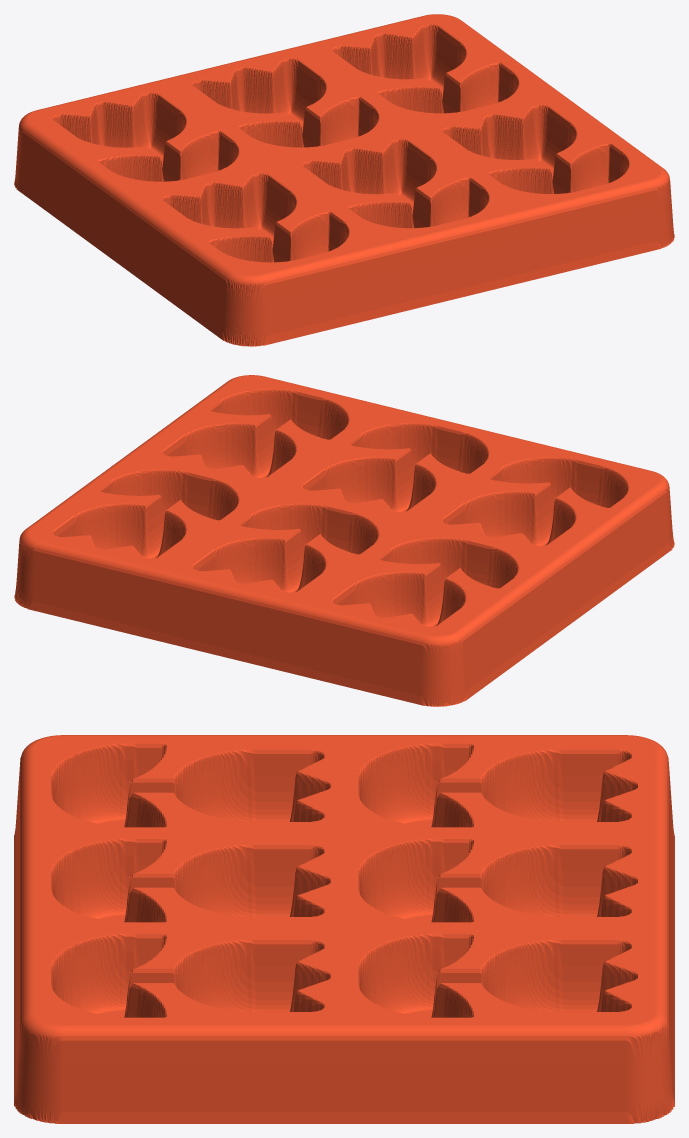
Rendered from mold.glb.
3 views of the same model, one above another, from view 1: azimuth 30°, elevation 25°; view 2: azimuth 150°, elevation 25°; view 3: azimuth 270°, elevation 25° (orthographic). The views are drawn at different scales.
Parts seen in each view (by area): view 1: geometry_0; view 2: geometry_0; view 3: geometry_0.
Boxes of the visible parts, box(x1,y1,x2,y2) form: geometry_0: box(14, 14, 674, 346); geometry_0: box(14, 375, 674, 706); geometry_0: box(14, 735, 674, 1123).
Size of the model in its own units: 0.1335 by 0.0185 by 0.1222.
